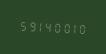five: (17, 18, 25, 32)
four: (44, 19, 52, 33)
nine: (26, 18, 34, 33)
one: (71, 20, 79, 35), (35, 19, 43, 33)
zero: (53, 20, 61, 34), (62, 20, 70, 34), (80, 21, 88, 35)
